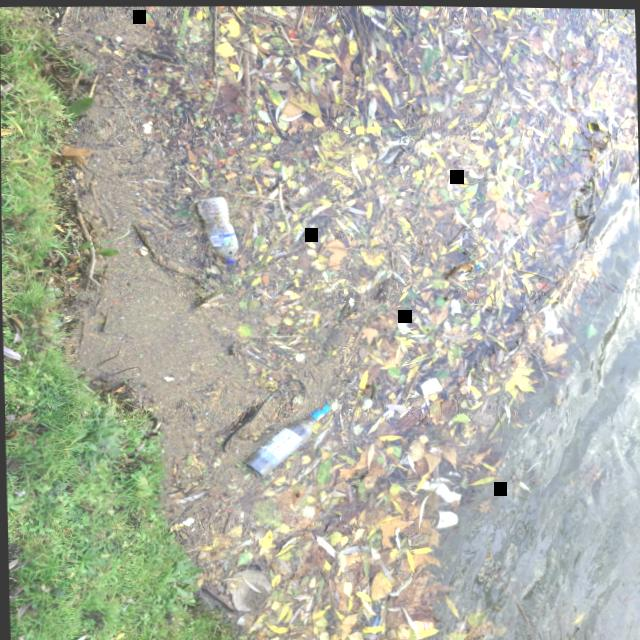Clear plastic bottle: (197, 194, 238, 262)
Glass bottle: (242, 401, 330, 475)
Other plastic: (400, 603, 438, 638), (371, 598, 384, 624)
Unlabeled litter: (433, 508, 457, 526)
